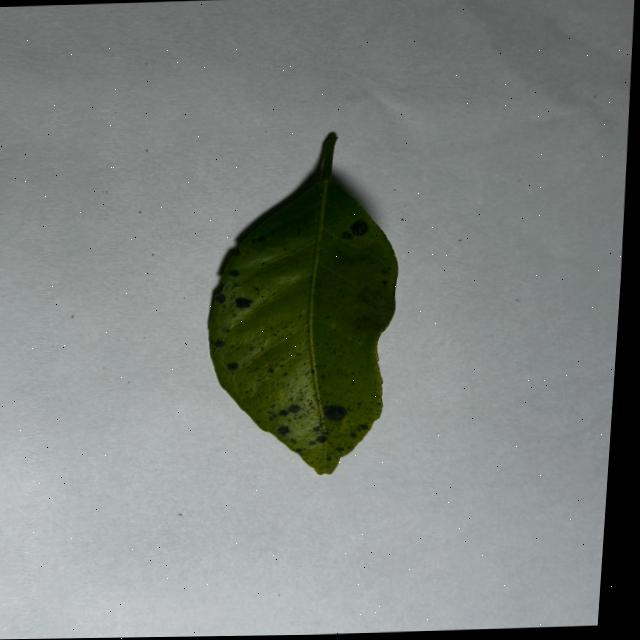sooty_mold: (208, 133, 396, 472)
